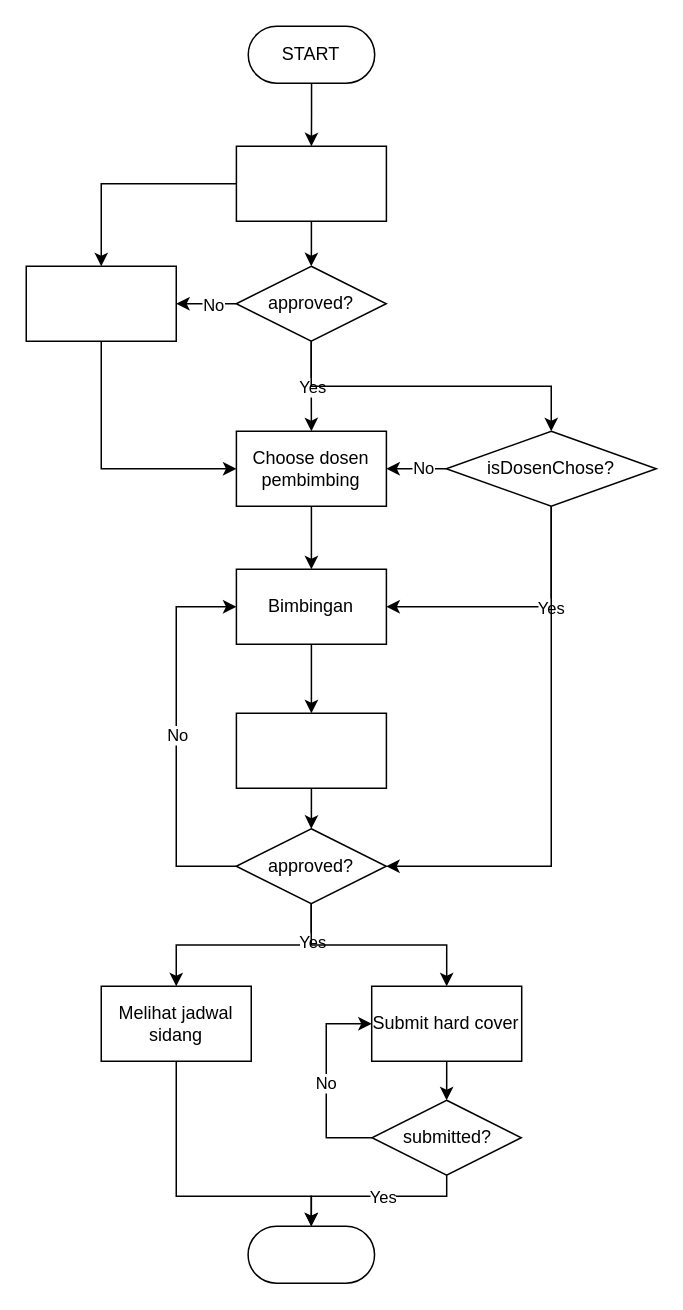
The diagram is 683 pixels wide and 1310 high, and some of its shapes have lost their labels. Here are the shapes that lost their labels. From the top down, the box of each, then its label:
(235, 145, 386, 221): Homepage
(25, 265, 176, 341): Submit proposal skripsi
(235, 712, 386, 788): Submit laporan soft cover
(247, 1225, 375, 1283): END
